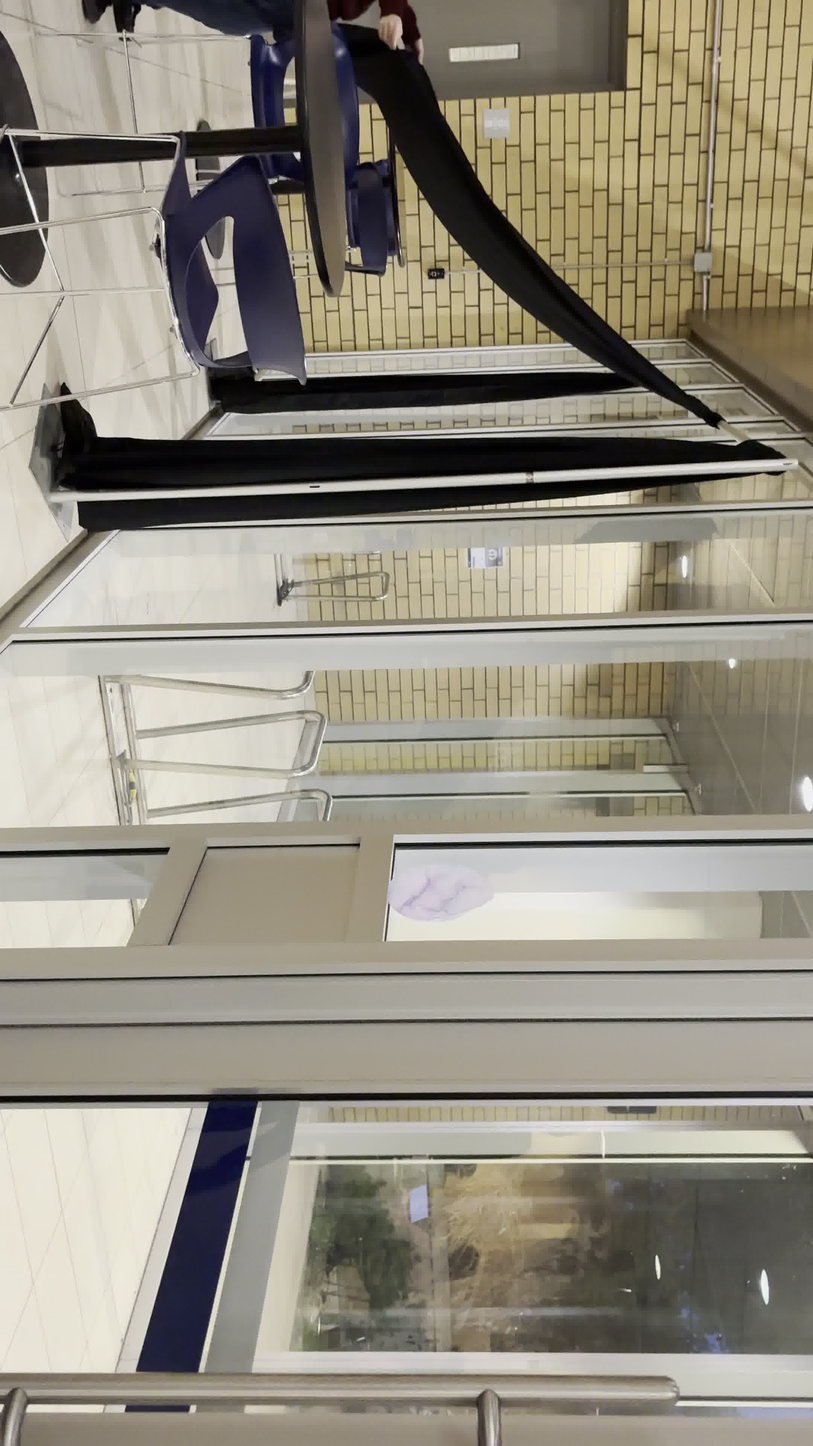Target: (386, 861, 496, 920)
